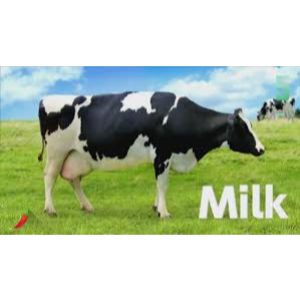cow: (34, 90, 266, 221), (267, 93, 298, 121)
